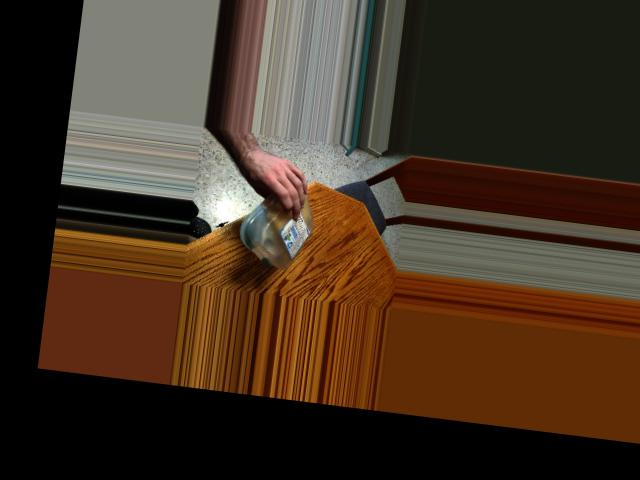cheese: (237, 172, 323, 275)
